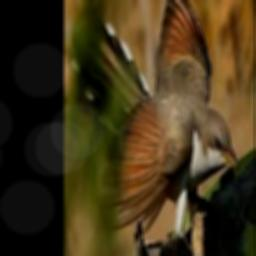Cuckoo: (72, 0, 240, 238)
